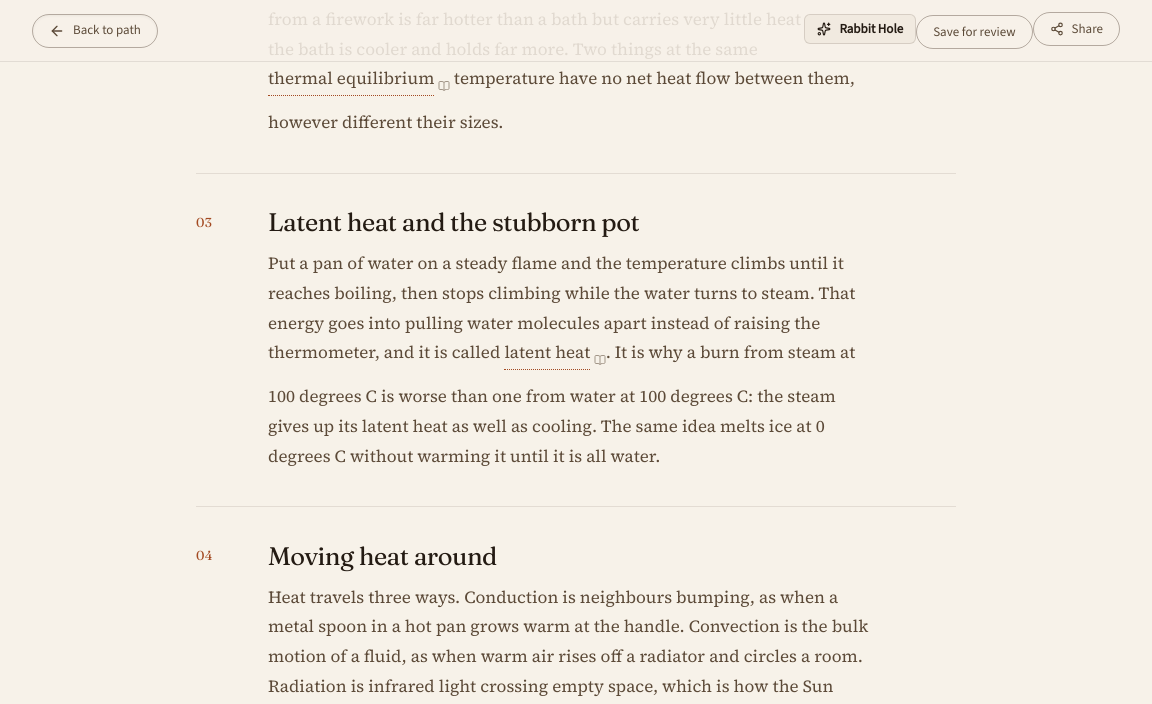
an inline {{term}} becomes a button that reveals its glossary definition on tap
This screenshot has width=1152, height=704.
(page scrolled)
expect the text "the energy that goes into changing a substance" is not shown: met
Click the button with aria-label "define latent-heat" at [555, 360], box 504,338 -> 606,382
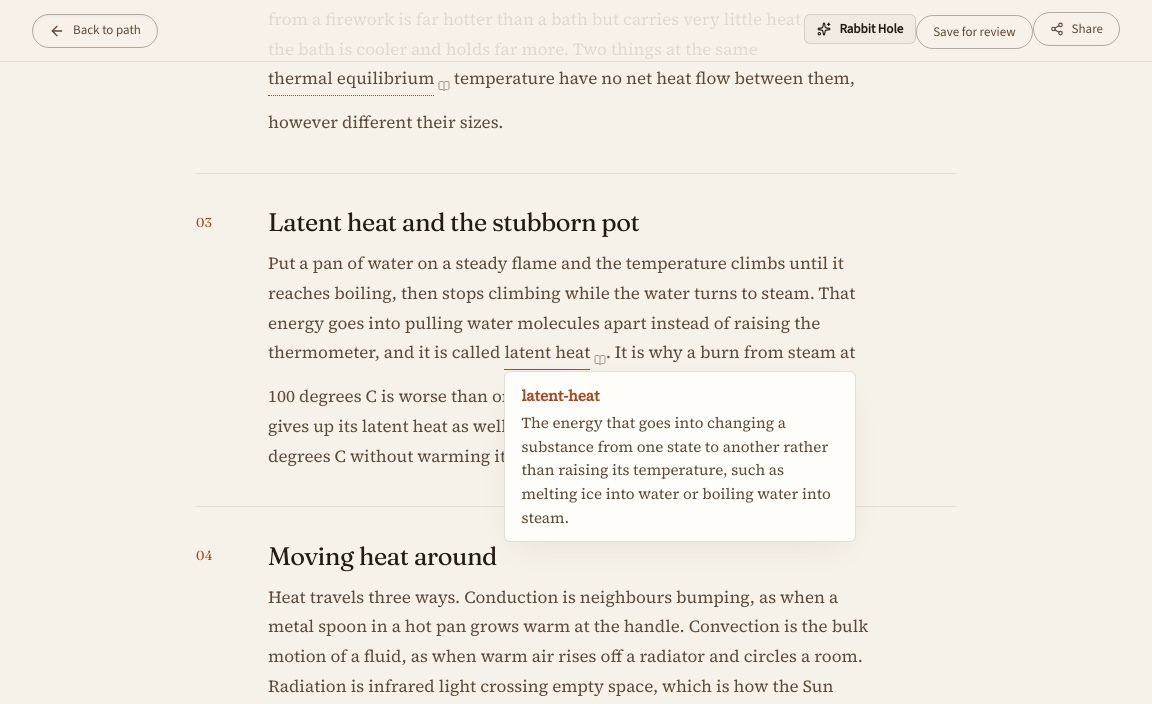
expect the text "The energy that goes into changing a substance" is shown: met, box 521,412 -> 831,528
expect the button with aria-label "define latent-heat" is expanded: met, box 504,338 -> 606,382
